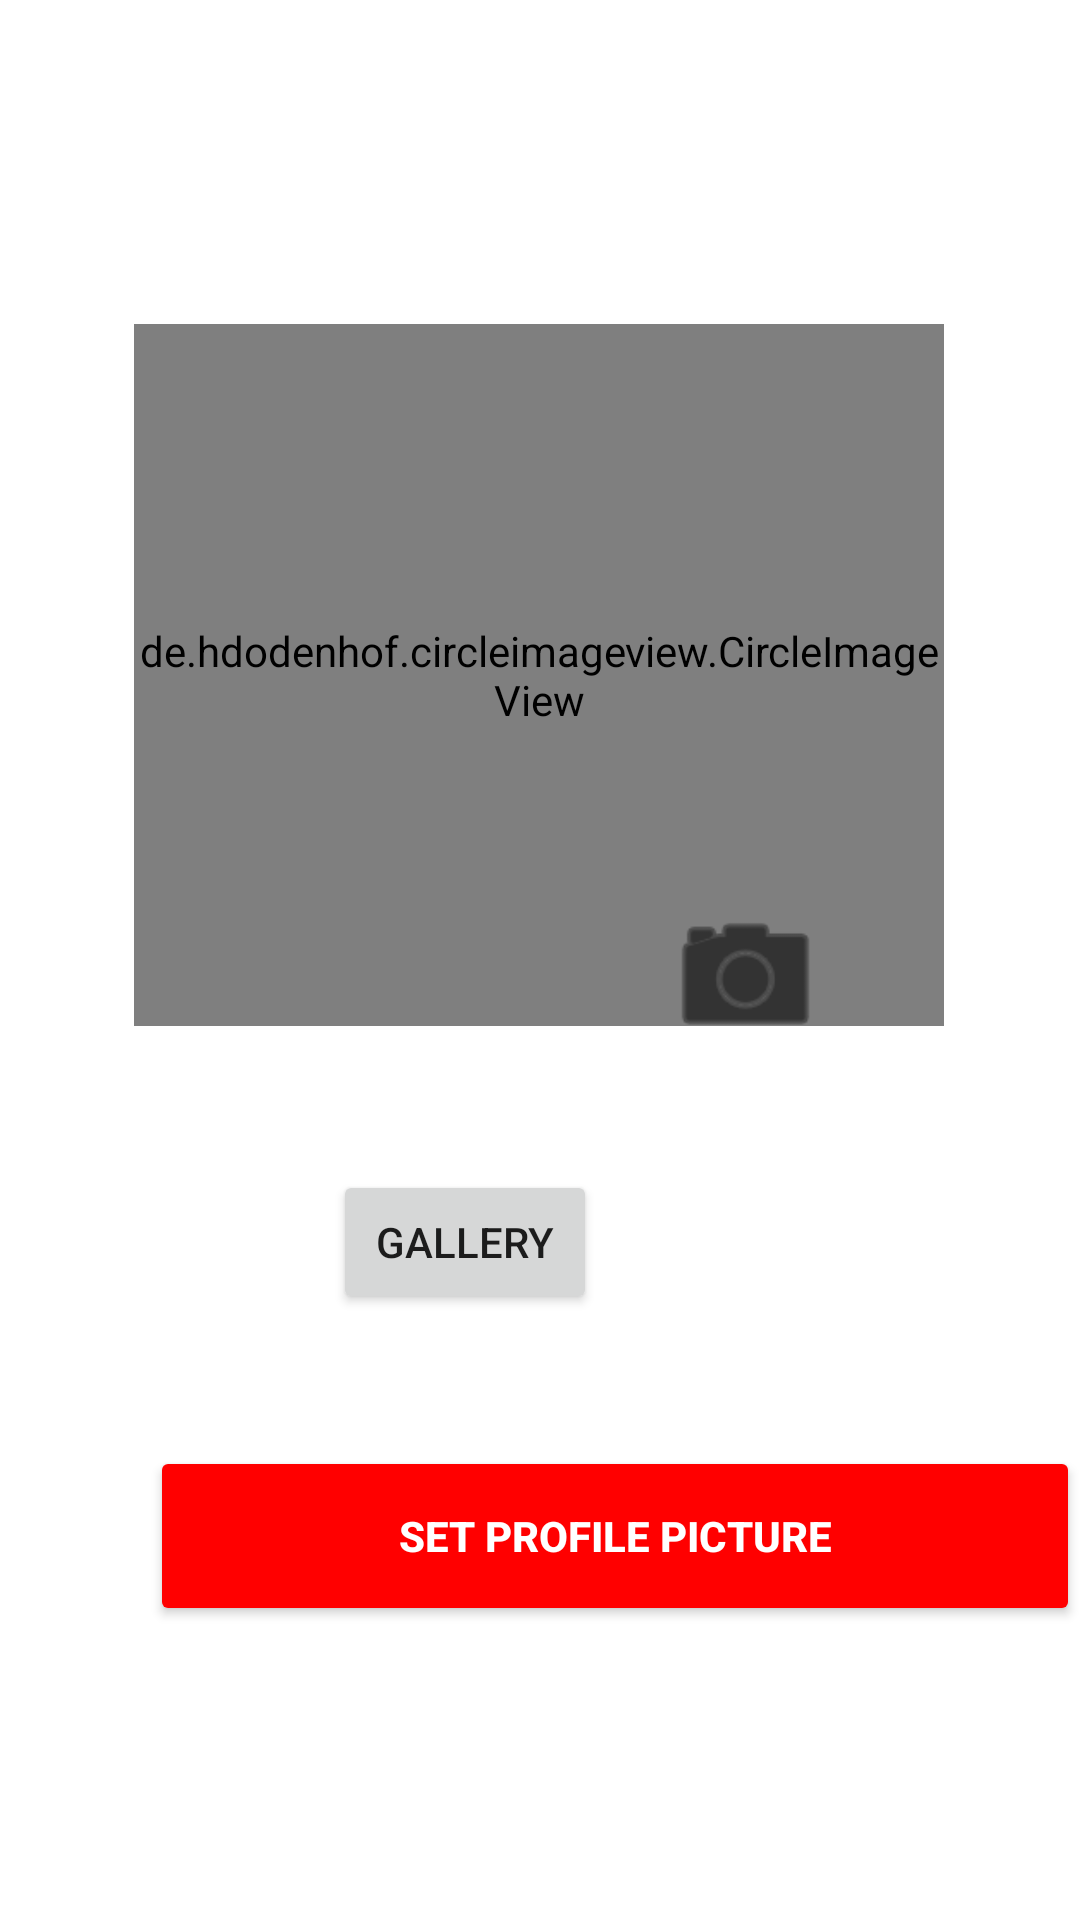

Point at icon controls on the screen. Image size 1080×1920, points as [x,y].
camera: [745,1006]
